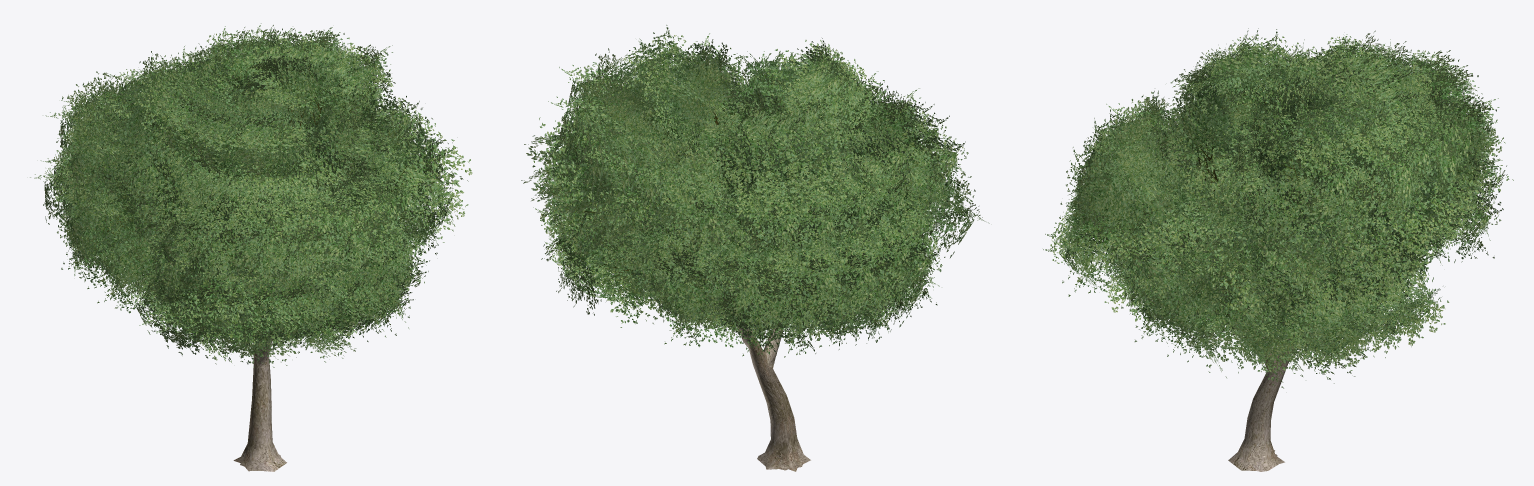
The model's file is Tree.FBX.
The picture shows the model from 3 angles, left to right: view 1: azimuth 30°, elevation 25°; view 2: azimuth 150°, elevation 25°; view 3: azimuth 270°, elevation 25°; orthographic projection. The views are drawn at different scales.
Parts seen in each view (by area): view 1: Populus_Leaves043, Populus_Leaves036, Populus_Leaves039, Populus_Leaves044, Populus_Leaves040, Populus_Leaves042, Populus_Trunk018; view 2: Populus_Leaves043, Populus_Leaves036, Populus_Leaves039, Populus_Leaves040, Populus_Leaves044, Populus_Leaves042, Populus_Trunk018; view 3: Populus_Leaves036, Populus_Leaves042, Populus_Leaves043, Populus_Leaves044, Populus_Leaves040, Populus_Leaves039, Populus_Trunk018.
Boxes of the visible parts, <box> form: Populus_Leaves043: <box>47,26,429,364</box>; Populus_Leaves036: <box>107,41,472,364</box>; Populus_Leaves039: <box>30,28,410,367</box>; Populus_Leaves044: <box>49,23,428,362</box>; Populus_Leaves040: <box>40,32,433,367</box>; Populus_Leaves042: <box>57,27,452,365</box>; Populus_Trunk018: <box>233,158,310,471</box>; Populus_Leaves043: <box>531,38,950,345</box>; Populus_Leaves036: <box>545,25,989,350</box>; Populus_Leaves039: <box>538,52,951,357</box>; Populus_Leaves040: <box>547,43,970,356</box>; Populus_Leaves044: <box>521,42,926,345</box>; Populus_Leaves042: <box>524,39,938,349</box>; Populus_Trunk018: <box>723,109,810,471</box>; Populus_Leaves036: <box>1106,29,1513,377</box>; Populus_Leaves042: <box>1064,38,1494,388</box>; Populus_Leaves043: <box>1043,30,1485,376</box>; Populus_Leaves044: <box>1045,39,1480,383</box>; Populus_Leaves040: <box>1087,28,1505,378</box>; Populus_Leaves039: <box>1065,28,1497,376</box>; Populus_Trunk018: <box>1206,239,1304,471</box>.
Bounding box in the file's own units: 1047 × 976 × 1014.
